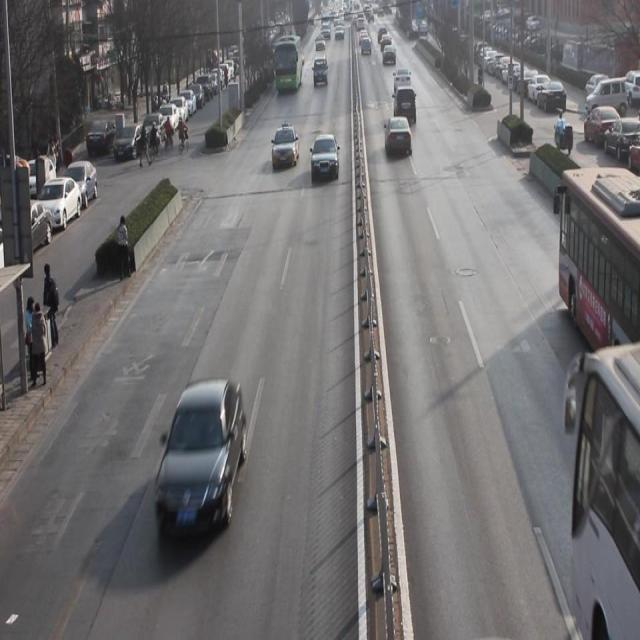car: (157, 384, 247, 532), (310, 134, 341, 185), (270, 124, 300, 170), (384, 116, 413, 159), (392, 87, 418, 125), (393, 69, 412, 92)
truck: (312, 54, 329, 89)
van: (570, 341, 640, 634), (559, 166, 640, 415), (273, 34, 301, 94)
